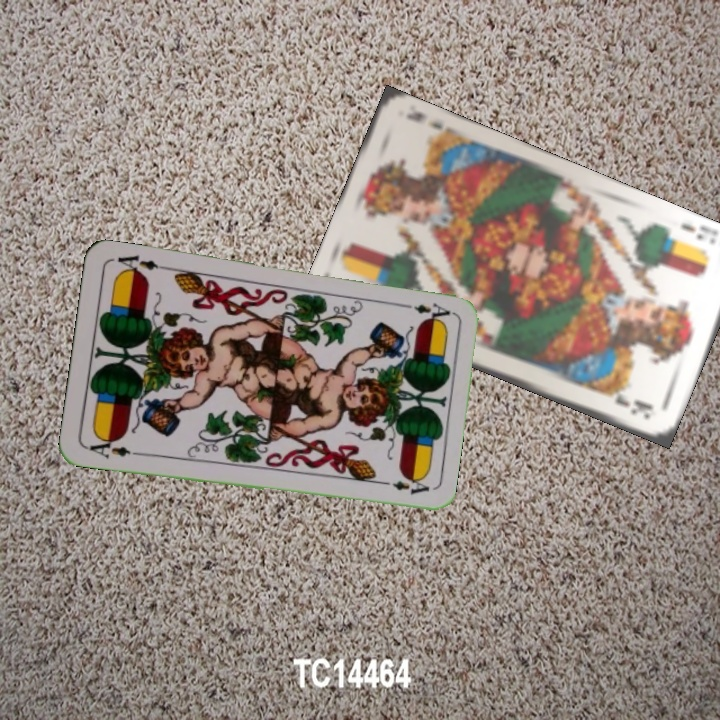EA: (83, 433, 142, 461), (395, 298, 453, 320)
EK: (676, 219, 719, 247)
